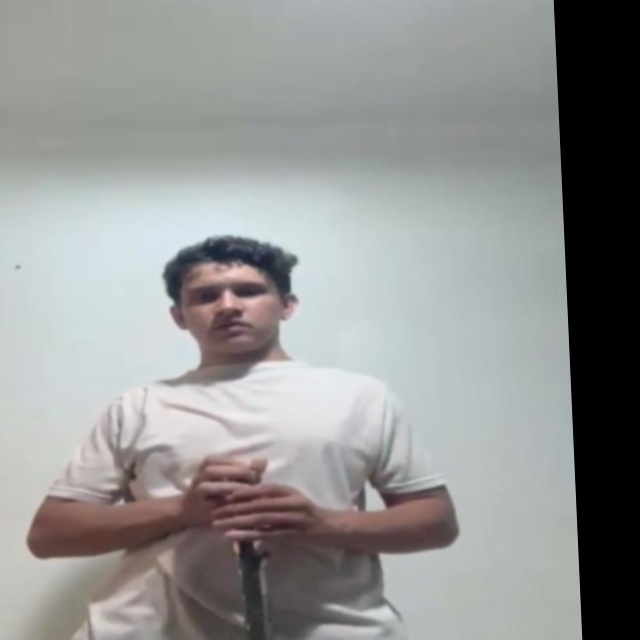Sharp-Object: (236, 557, 285, 640)
